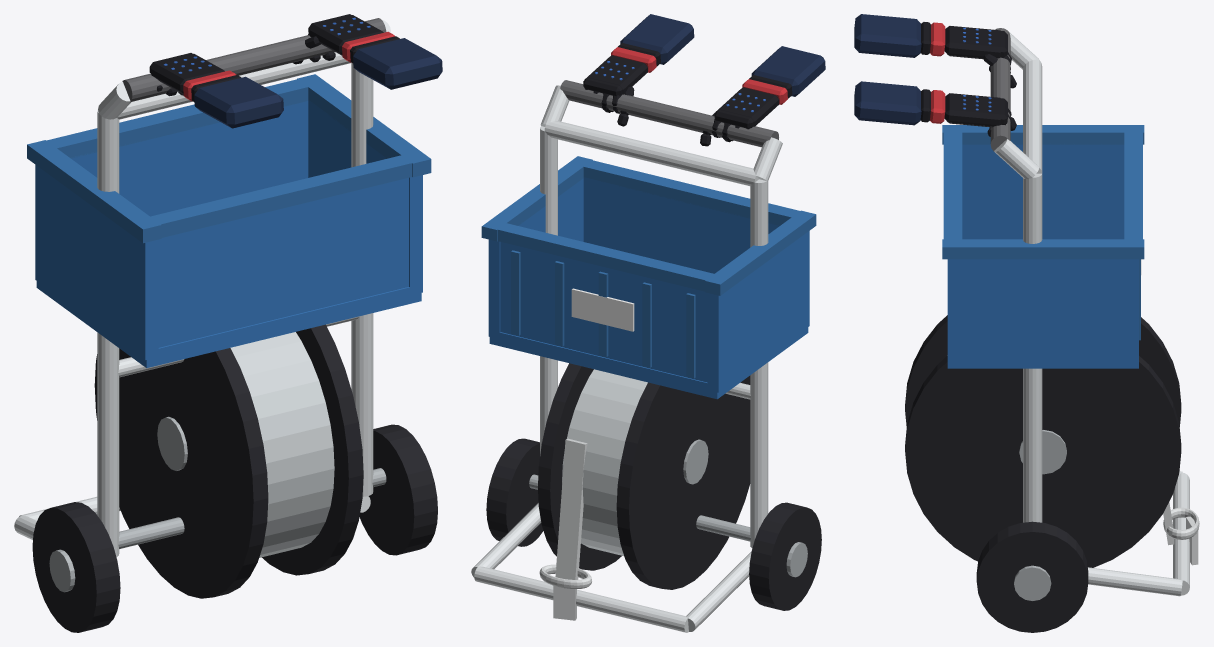
The model's file is hands_cart.glb.
3 views of the same model, side by side, from view 1: azimuth 30°, elevation 25°; view 2: azimuth 150°, elevation 25°; view 3: azimuth 270°, elevation 25° (orthographic). The views are drawn at different scales.
Parts seen in each view (by area): view 1: CrateBack, ReelRim, StrapRoll, CrateLeft, CrateFront, Wheel, ReelRim.001, Wheel.001, CrateRimB, UprightL, CrateBottom, UprightR (+17 smaller); view 2: ReelRim, CrateFront, CrateBack, CrateLeft, StrapRoll, Wheel, CrateRimF, UprightL, ReelRim.001, Wheel.001, CrateBottom, HandleTop (+31 smaller); view 3: ReelRim.001, CrateRight, CrateLeft, Wheel.001, UprightR, CrateRimR, ReelRim, LeftSleeve, RightSleeve, CrateRimL, CrateRimB, CrateRimF (+14 smaller).
Part boxes in pixels (x1=…): CrateBack: x1=158, y1=178, x2=408, y2=347; ReelRim: x1=94, y1=348, x2=268, y2=598; StrapRoll: x1=230, y1=332, x2=334, y2=557; CrateLeft: x1=35, y1=165, x2=158, y2=360; CrateFront: x1=71, y1=101, x2=308, y2=216; Wheel: x1=32, y1=502, x2=120, y2=632; ReelRim.001: x1=262, y1=324, x2=363, y2=575; Wheel.001: x1=359, y1=424, x2=437, y2=555; CrateRimB: x1=133, y1=153, x2=423, y2=237; UprightL: x1=97, y1=110, x2=119, y2=556; CrateBottom: x1=36, y1=281, x2=421, y2=368; UprightR: x1=351, y1=63, x2=373, y2=496; ReelRim: x1=616, y1=375, x2=750, y2=589; CrateFront: x1=500, y1=242, x2=707, y2=382; CrateBack: x1=583, y1=177, x2=779, y2=273; CrateLeft: x1=707, y1=231, x2=809, y2=392; StrapRoll: x1=562, y1=369, x2=647, y2=555; Wheel: x1=749, y1=502, x2=821, y2=610; CrateRimF: x1=486, y1=220, x2=725, y2=291; UprightL: x1=750, y1=179, x2=768, y2=548; ReelRim.001: x1=538, y1=363, x2=621, y2=570; Wheel.001: x1=486, y1=438, x2=543, y2=546; CrateBottom: x1=489, y1=327, x2=808, y2=399; HandleTop: x1=544, y1=121, x2=758, y2=186; ReelRim.001: x1=905, y1=356, x2=1181, y2=567; CrateRight: x1=947, y1=259, x2=1138, y2=361; CrateLeft: x1=962, y1=143, x2=1124, y2=239; Wheel.001: x1=976, y1=521, x2=1088, y2=632; UprightR: x1=1023, y1=173, x2=1042, y2=522; CrateRimR: x1=942, y1=239, x2=1144, y2=259; ReelRim: x1=905, y1=315, x2=1181, y2=426; LeftSleeve: x1=854, y1=14, x2=921, y2=57; RightSleeve: x1=854, y1=81, x2=921, y2=125; CrateRimL: x1=942, y1=125, x2=1144, y2=144; CrateRimB: x1=943, y1=125, x2=962, y2=246; CrateRimF: x1=1124, y1=125, x2=1142, y2=246.
Size of the model in its own units: 0.662 by 1.04 by 0.6495.
